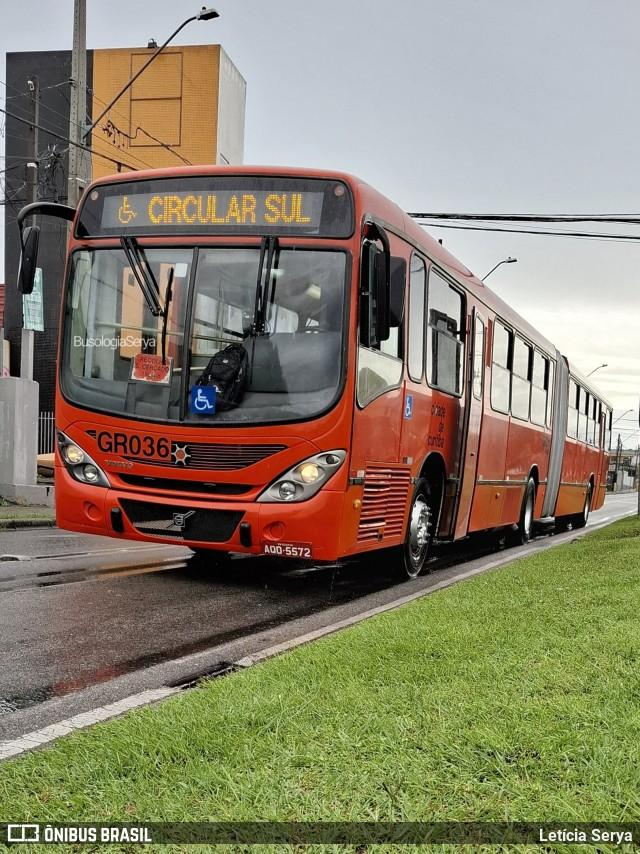CIRCULAR SUL: (141, 188, 314, 230)
